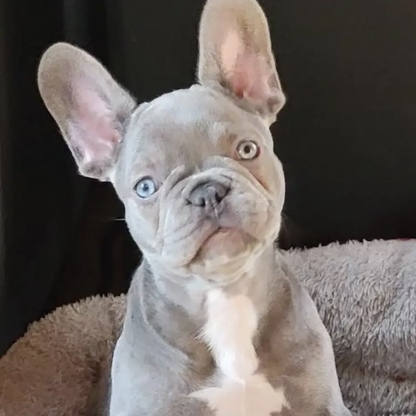bulldog: (31, 6, 359, 416)
